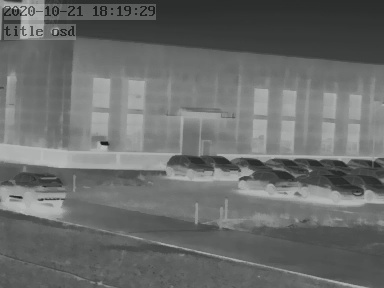vehicle: (1, 171, 65, 207), (301, 174, 364, 200), (238, 171, 303, 196), (165, 153, 211, 178), (206, 153, 243, 177), (356, 173, 384, 204), (234, 155, 272, 172), (262, 155, 301, 171), (347, 156, 378, 170), (316, 156, 347, 169), (296, 156, 325, 169)
